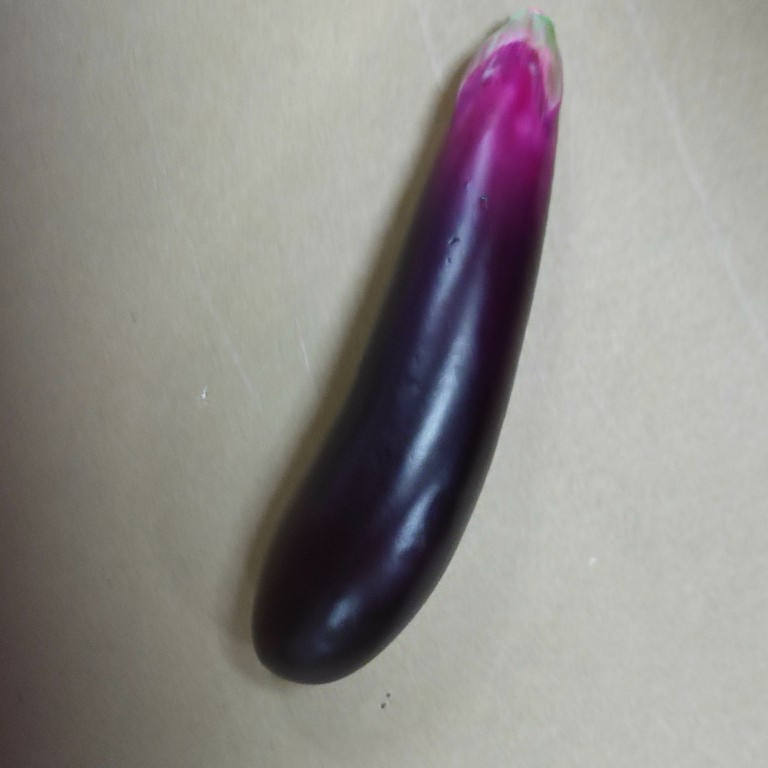fruit_eggplant: (249, 1, 569, 690)
